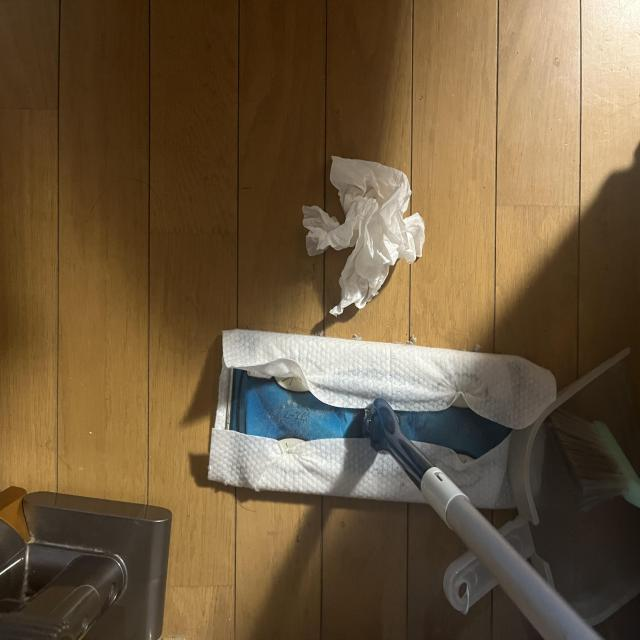Paper: (304, 152, 442, 308)
